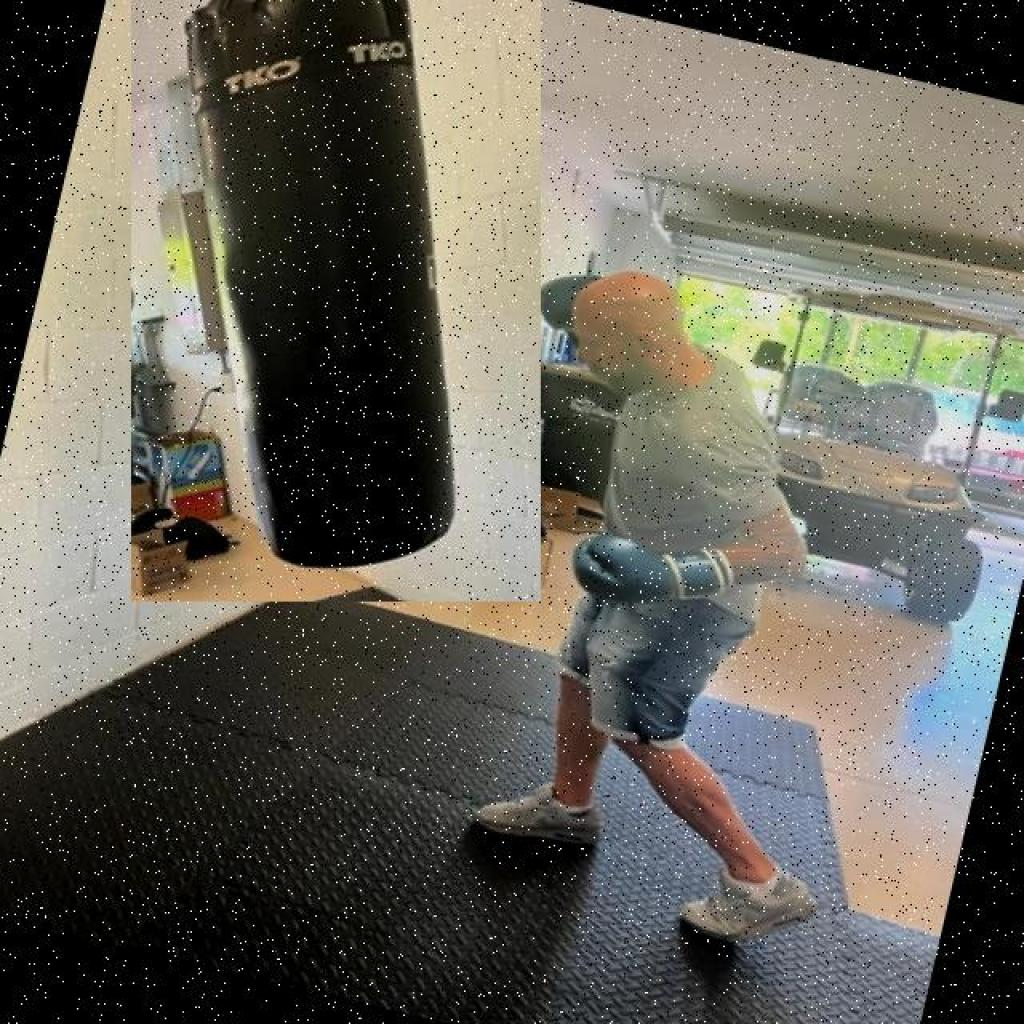bag: (131, 0, 540, 602)
uppercut: (512, 414, 838, 670)
